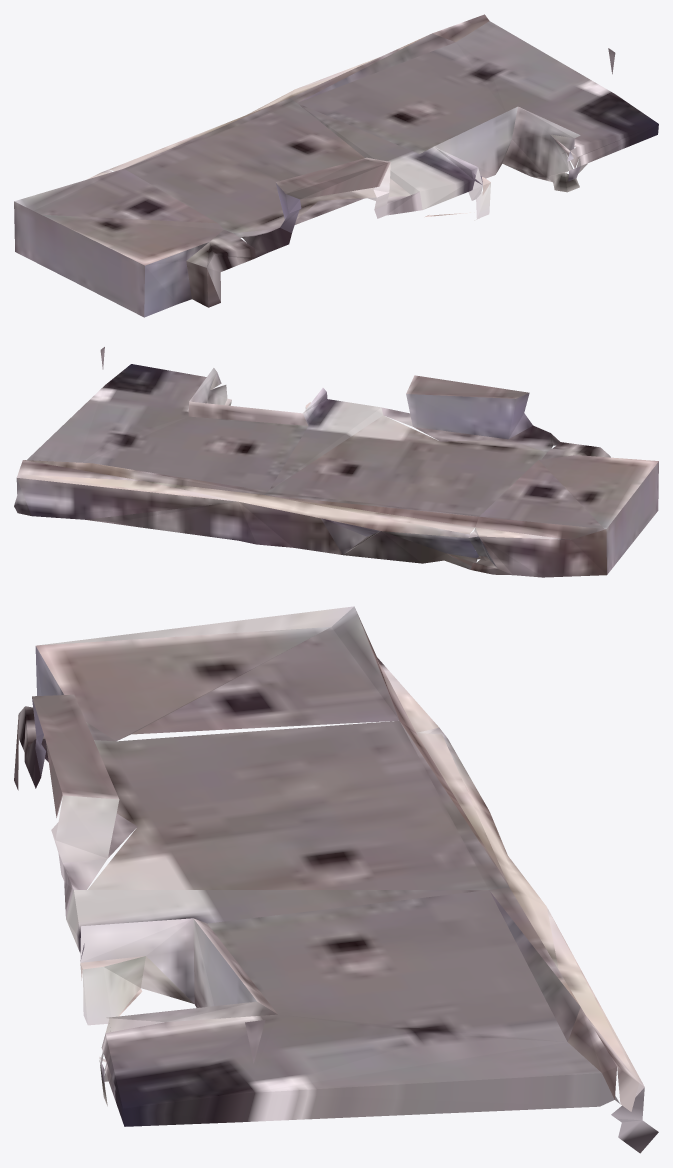
3 views of the same model, one above another, from view 1: azimuth 30°, elevation 25°; view 2: azimuth 150°, elevation 25°; view 3: azimuth 270°, elevation 25° (orthographic). The views are drawn at different scales.
Visible parts, largest first — view 1: Mesh_0; view 2: Mesh_0; view 3: Mesh_0.
Part boxes in pixels (bbox=[...]): Mesh_0: bbox=[14, 14, 658, 317]; Mesh_0: bbox=[14, 347, 658, 577]; Mesh_0: bbox=[14, 606, 658, 1153].
Bounding box in the file's own units: 38.69 × 5.95 × 22.02.
Materials: 1 (1 with a texture image).
